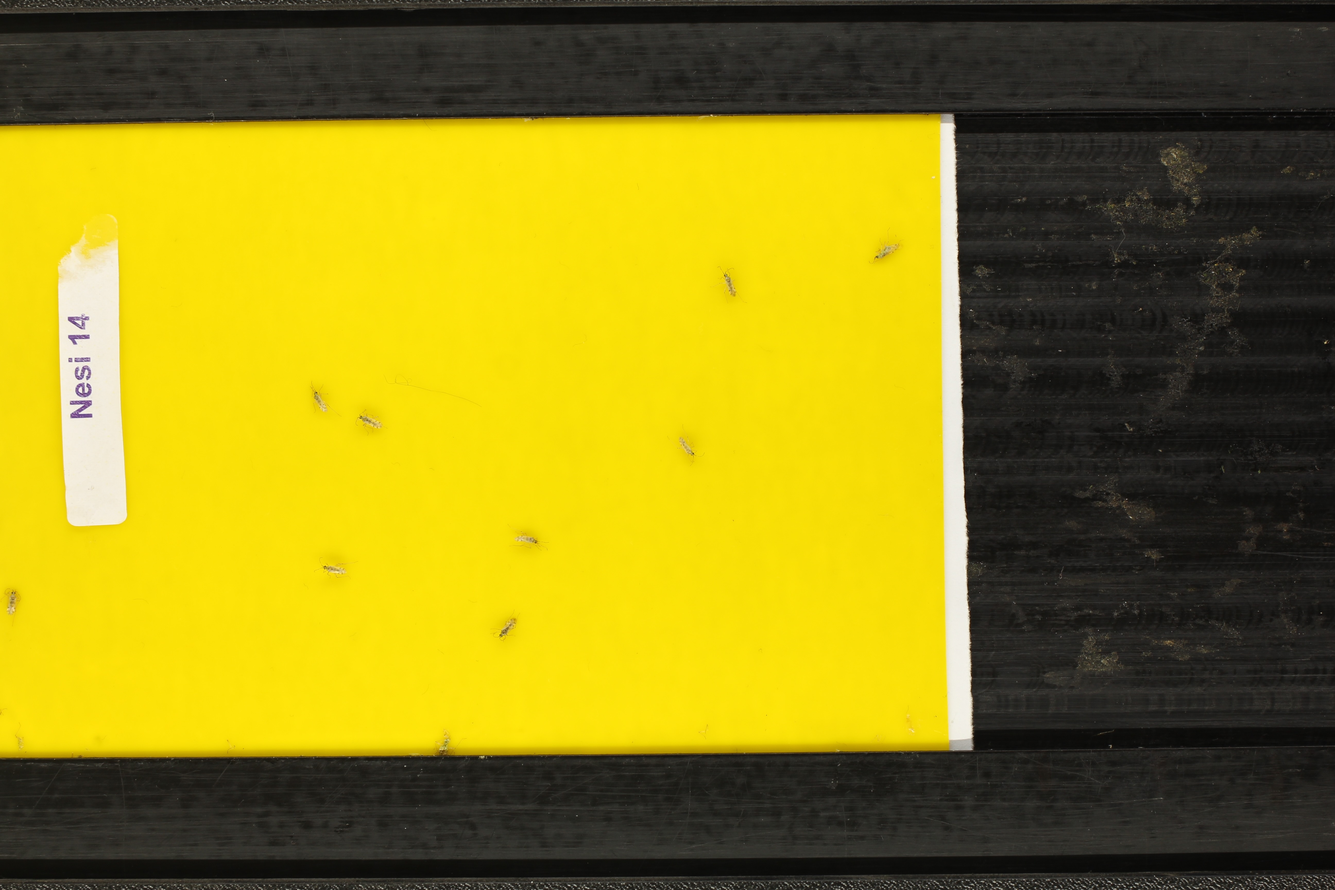NC: (861, 226, 912, 270), (504, 527, 551, 554), (304, 381, 335, 418), (712, 266, 743, 303), (314, 558, 355, 585), (431, 727, 465, 758), (492, 608, 521, 641), (2, 585, 25, 623), (676, 438, 705, 468), (352, 412, 387, 432)
